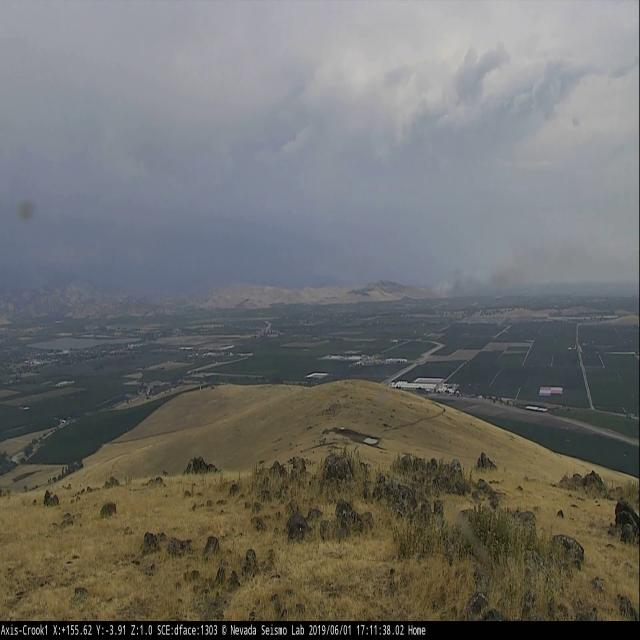smoke: (429, 230, 640, 300)
